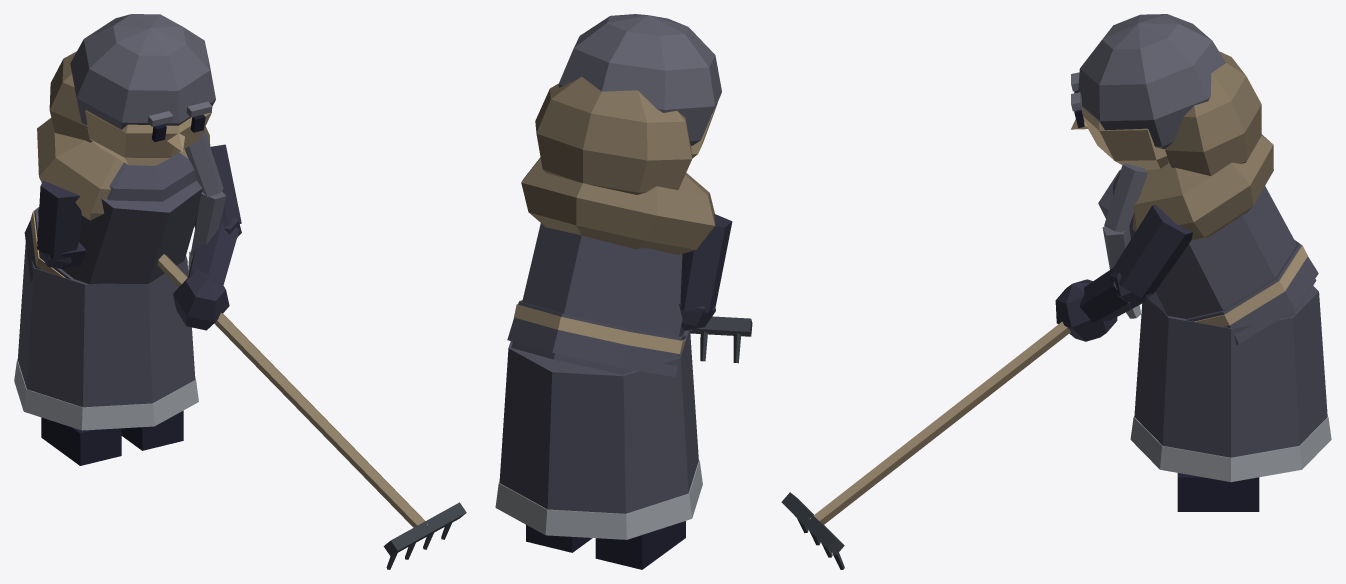
File: wenna_coll_rake.glb
3 views of the same model, side by side, from view 1: azimuth 30°, elevation 25°; view 2: azimuth 150°, elevation 25°; view 3: azimuth 270°, elevation 25° (orthographic). The views are drawn at different scales.
Visible parts, largest first — view 1: LegL, Torso, Head, Stool, ArmL, ArmR, LegR; view 2: LegL, Torso, Head, ArmR, LegR, Stool; view 3: LegL, Torso, Head, ArmL, Stool.
Part boxes in pixels (left/top/right/bottom): LegL: left=14, top=242, right=198, bottom=450; Torso: left=24, top=118, right=226, bottom=284; Head: left=49, top=14, right=215, bottom=165; Stool: left=157, top=254, right=466, bottom=569; ArmL: left=173, top=144, right=241, bottom=330; ArmR: left=37, top=180, right=86, bottom=269; LegR: left=41, top=417, right=121, bottom=465; LegL: left=495, top=330, right=702, bottom=552; Torso: left=507, top=157, right=715, bottom=377; Head: left=535, top=14, right=721, bottom=194; ArmR: left=679, top=214, right=732, bottom=330; LegR: left=595, top=521, right=685, bottom=569; Stool: left=690, top=316, right=752, bottom=363; LegL: left=1130, top=286, right=1331, bottom=511; Torso: left=1098, top=134, right=1318, bottom=344; Head: left=1071, top=14, right=1261, bottom=175; ArmL: left=1055, top=204, right=1192, bottom=341; Stool: left=781, top=321, right=1070, bottom=569.
Size of the model in its own units: 0.9938 by 1.64 by 1.75.
